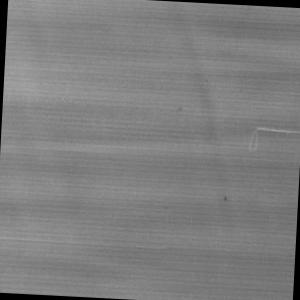Wrinkle: (151, 8, 265, 273)
